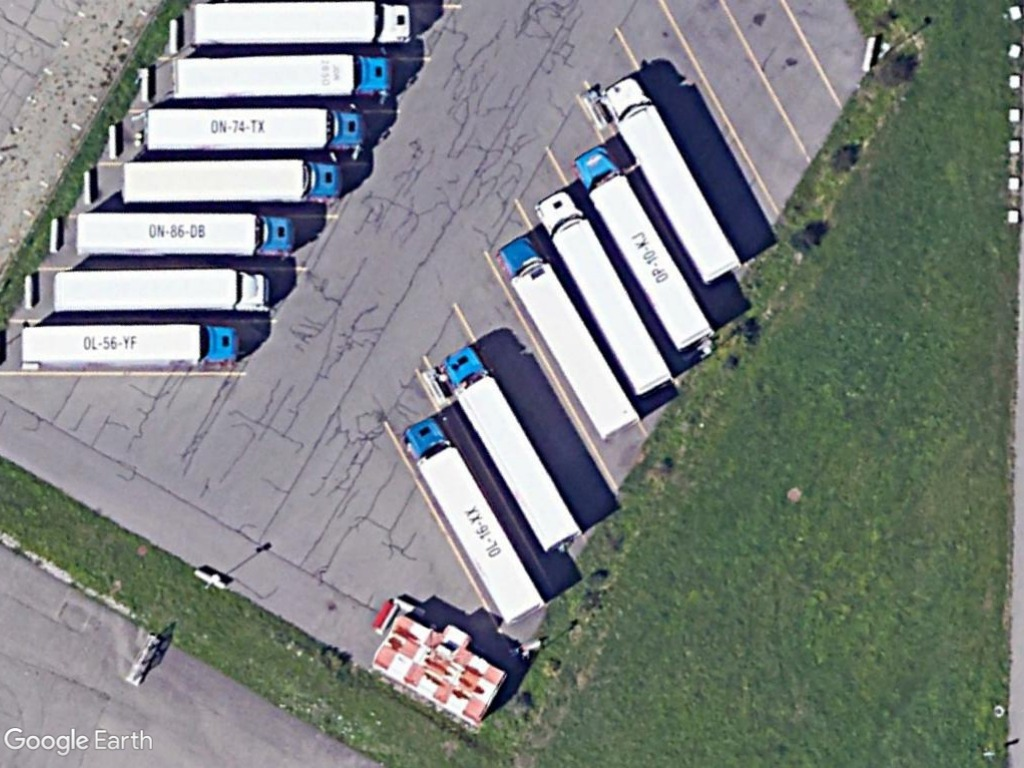longvehicle: (395, 414, 547, 630), (600, 71, 748, 287), (438, 338, 581, 559), (492, 232, 642, 442), (568, 142, 715, 354), (534, 185, 672, 399), (71, 208, 300, 263), (139, 104, 367, 157), (15, 319, 241, 372), (115, 157, 348, 208), (46, 266, 276, 317), (186, 0, 413, 51), (169, 54, 398, 103)
